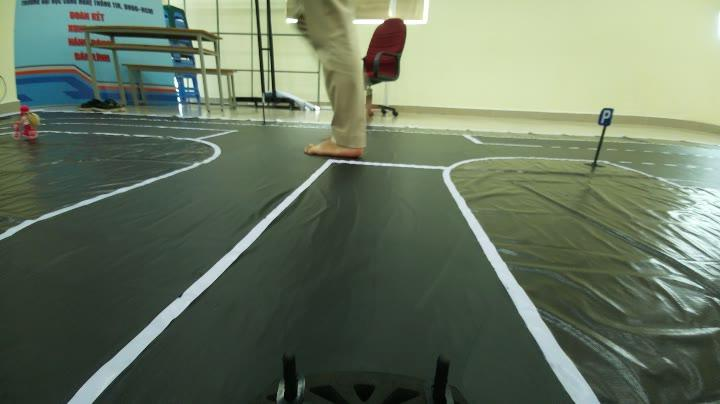parking: (592, 105, 615, 128)
